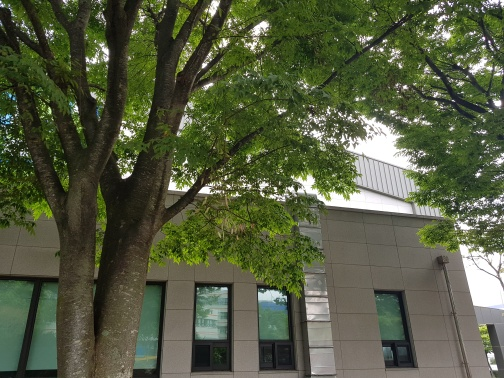Gym: (176, 130, 501, 375)
